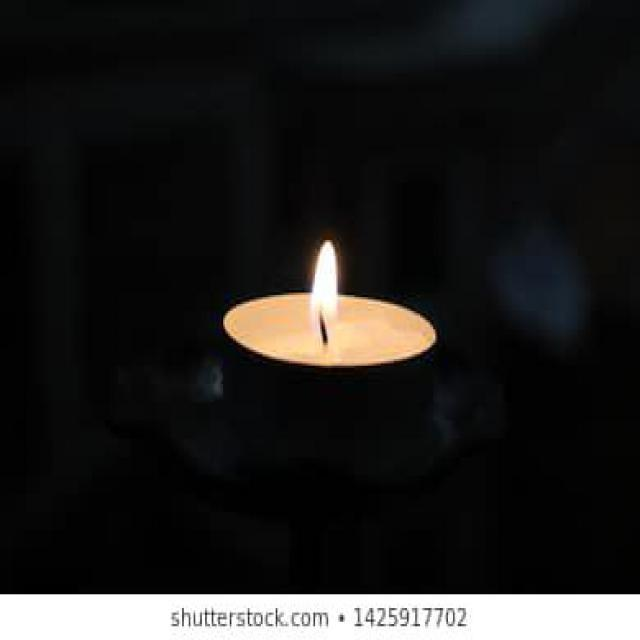Fire: (310, 240, 340, 329)
